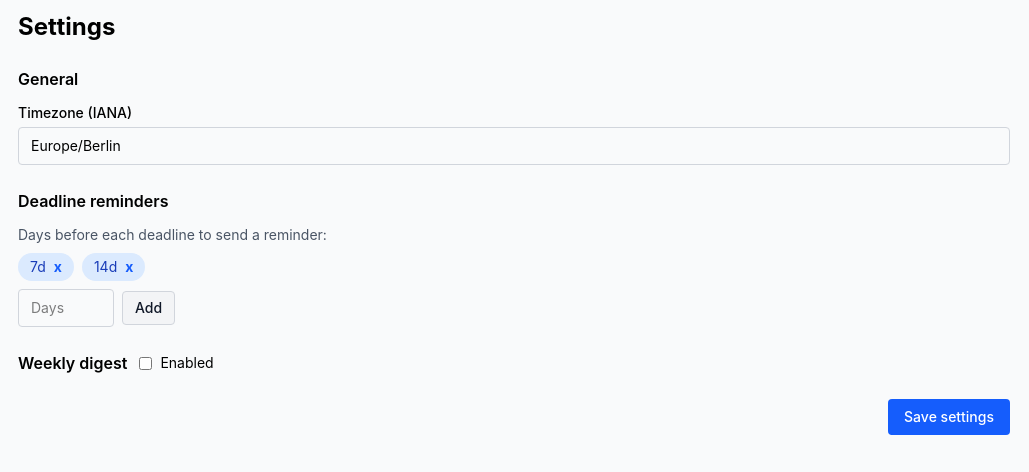
Test: SettingsPage › shows validation error on empty timezone
Clear the field with placeholder "Europe/Berlin" at [514, 146], box x1=18 y1=127 x2=1010 y2=165
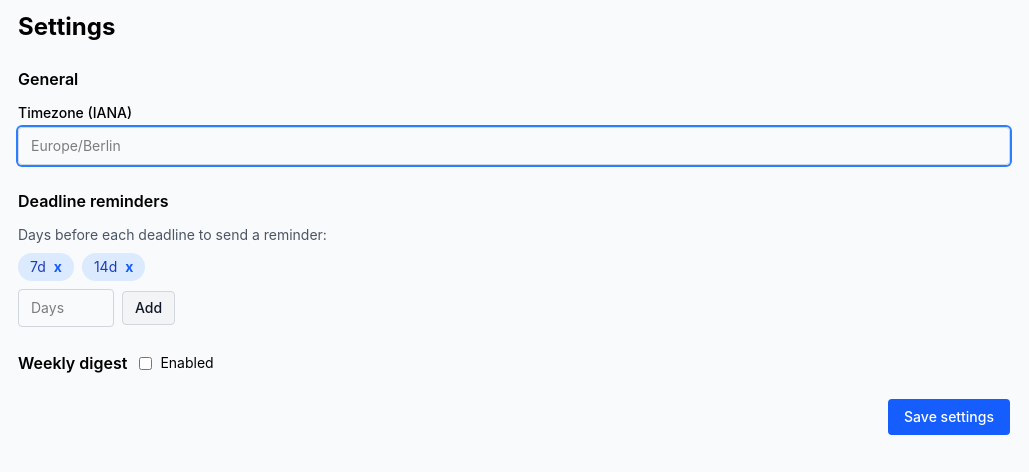
Click the button "Save settings" at [949, 417], box x1=888 y1=399 x2=1010 y2=435
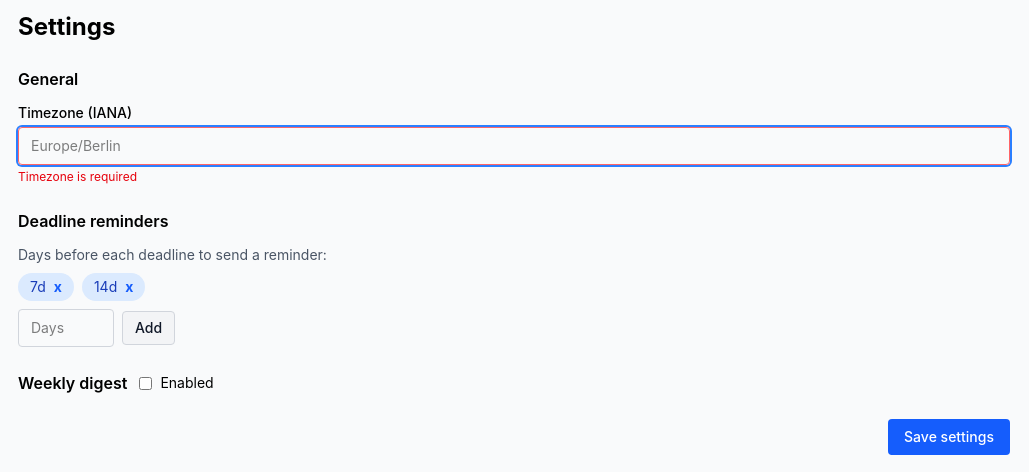
Check: the text "Timezone is required" is shown, box x1=18 y1=169 x2=137 y2=184
